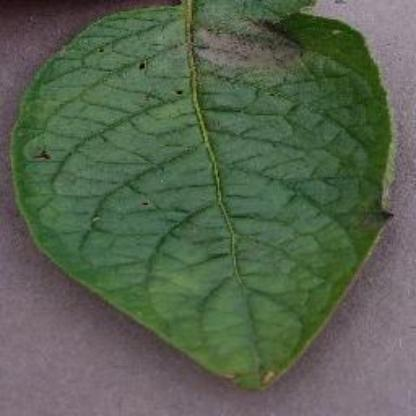Late-Blight: (7, 0, 415, 398)
